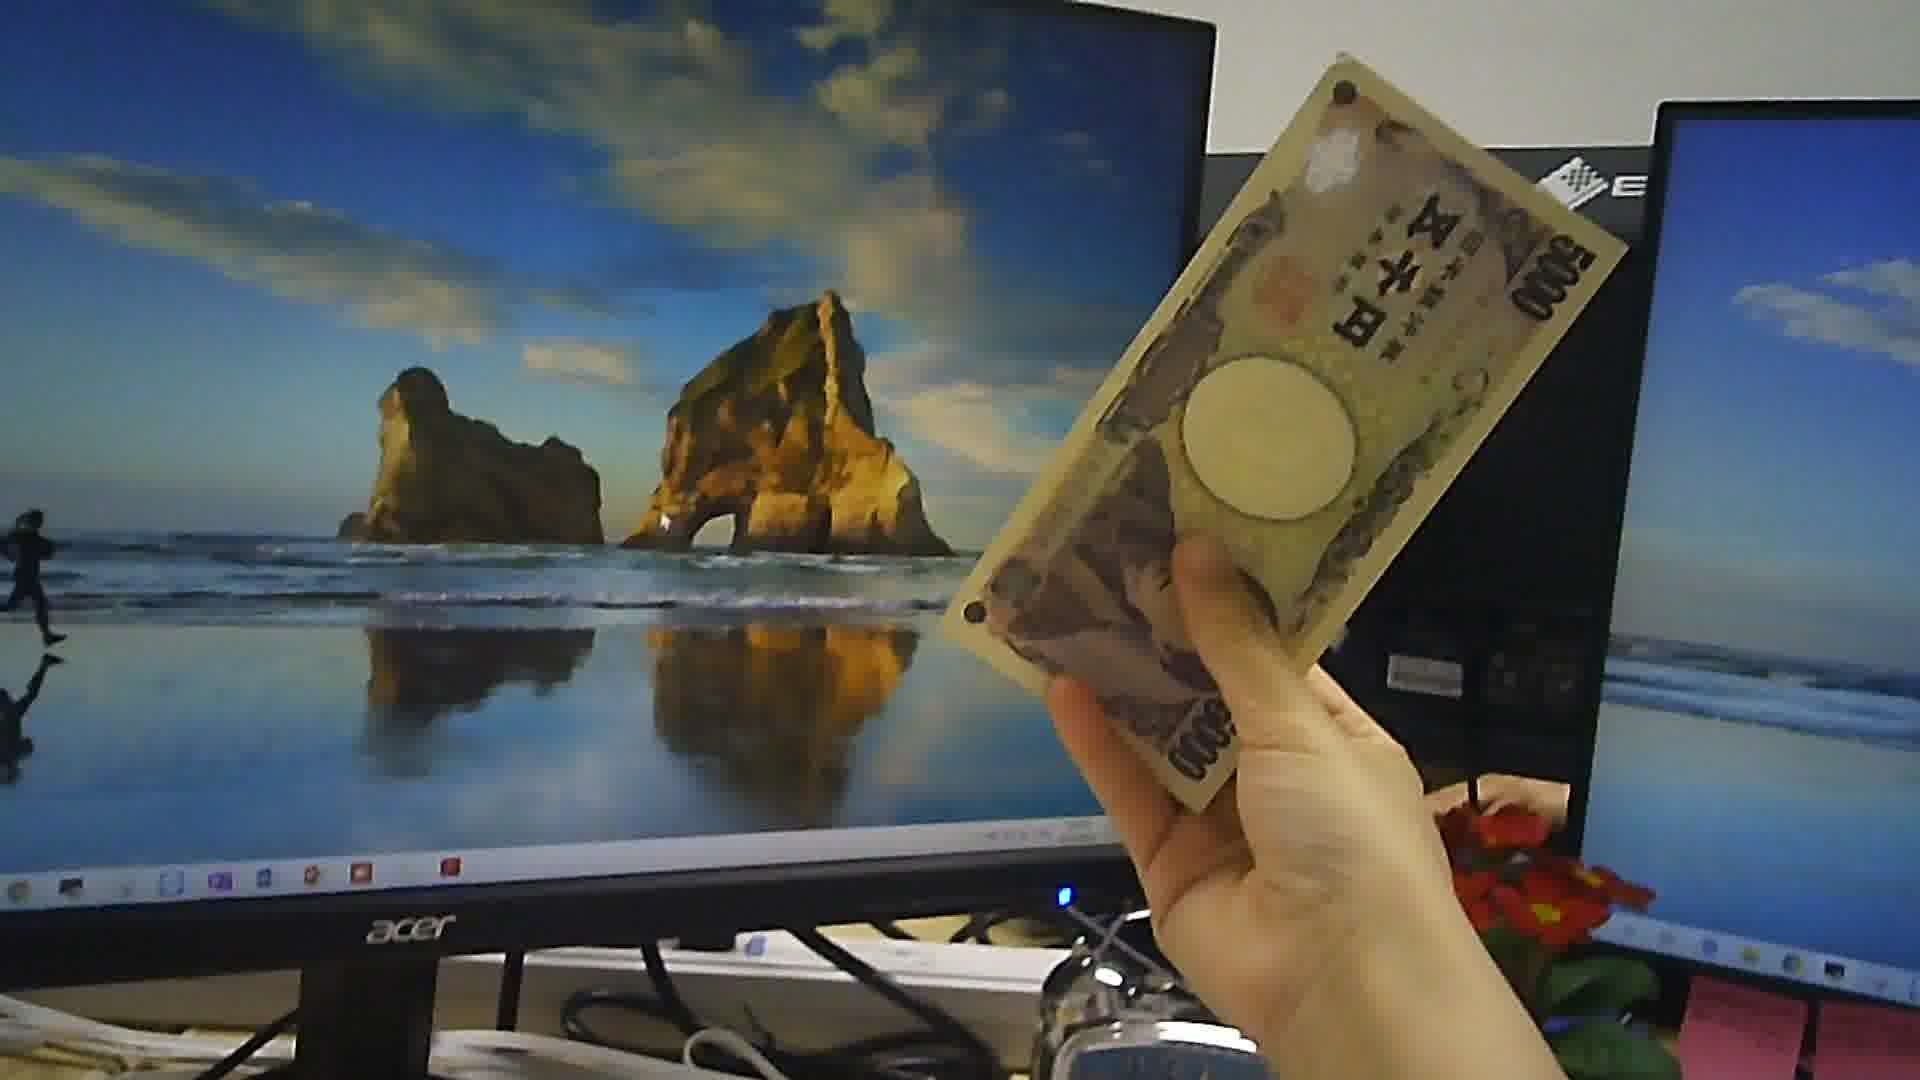5,000 Yen: (938, 55, 1638, 847)
